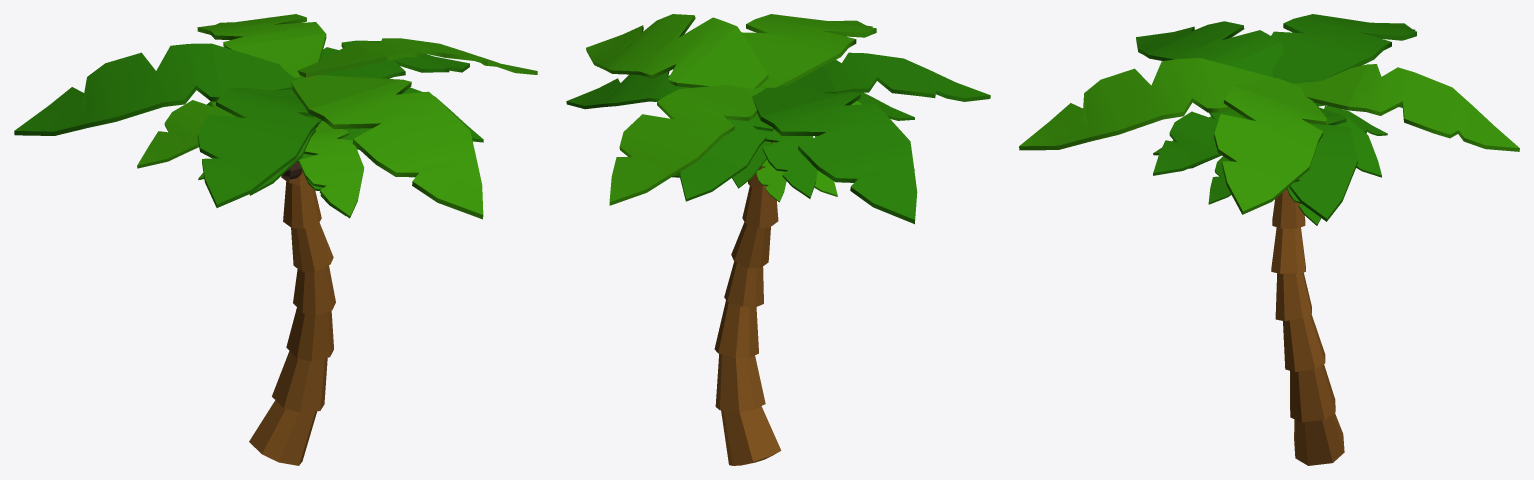
File: FBX_PALMTREE.fbx
The picture shows the model from 3 angles, left to right: view 1: azimuth 30°, elevation 25°; view 2: azimuth 150°, elevation 25°; view 3: azimuth 270°, elevation 25°; orthographic projection. The views are drawn at different scales.
Visible parts, largest first — view 1: PALMIER_N_1; view 2: PALMIER_N_1; view 3: PALMIER_N_1.
Part boxes in pixels (left/top/right/bottom): PALMIER_N_1: left=14, top=14, right=537, bottom=465; PALMIER_N_1: left=566, top=14, right=990, bottom=465; PALMIER_N_1: left=1019, top=14, right=1519, bottom=465.
Size of the model in its own units: 330 by 305 by 344.
